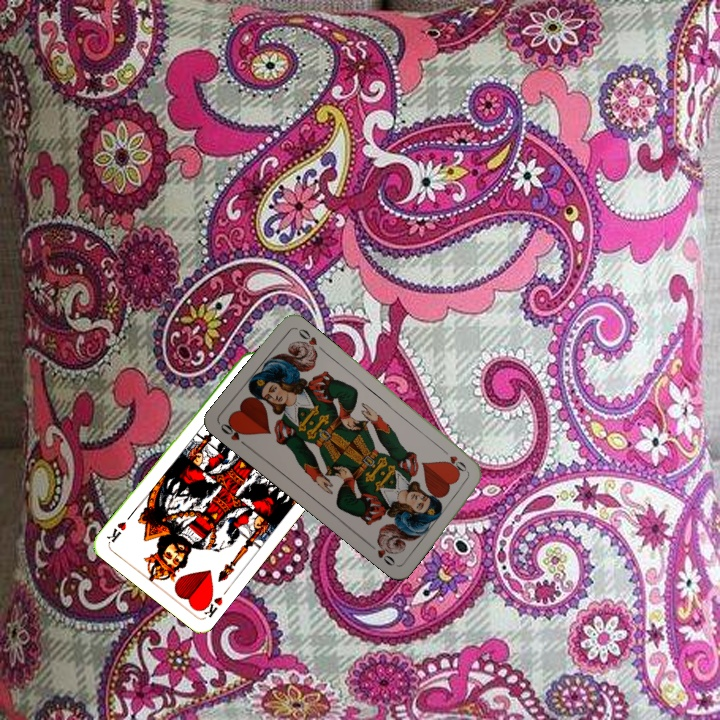HK: (196, 590, 225, 620)
HO: (216, 417, 250, 450), (438, 445, 471, 476)
